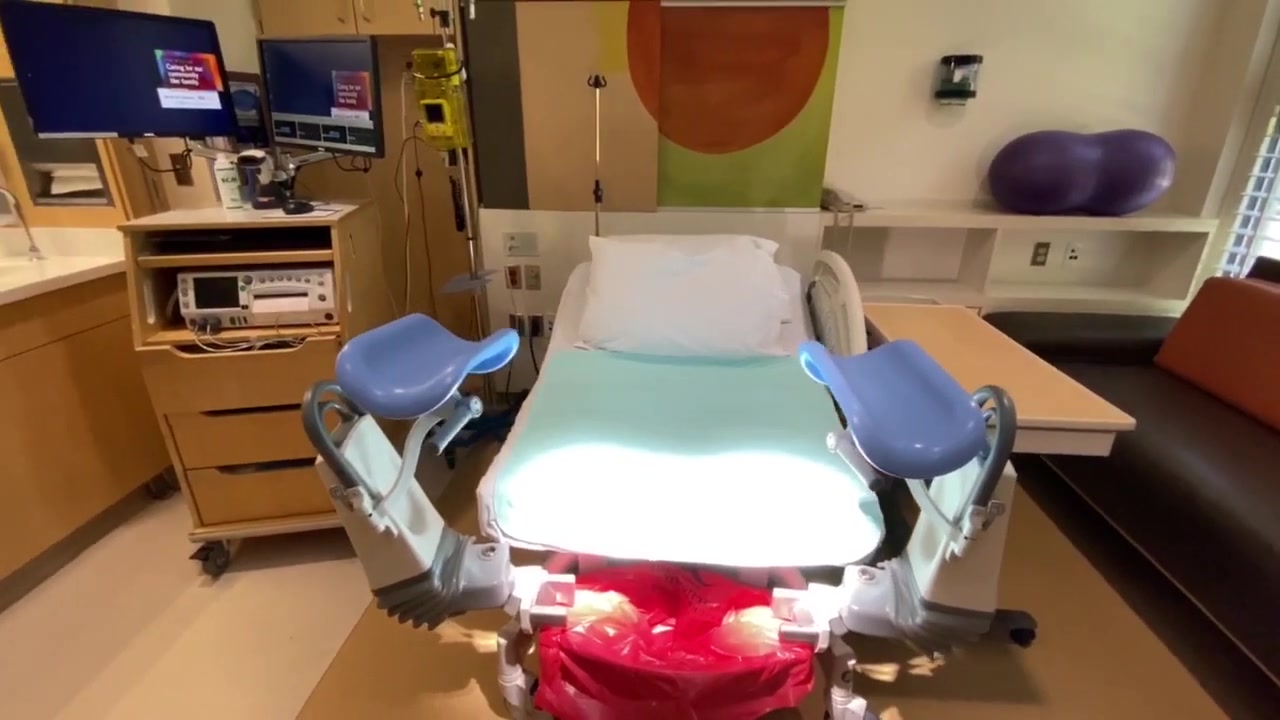bedrail: (807, 249, 870, 358)
computer: (1, 1, 242, 140), (255, 35, 386, 161)
countertop: (1, 256, 126, 297)
dispenser: (1, 78, 118, 207)
drawer: (114, 203, 413, 576)
faucet: (1, 187, 42, 259)
hospital_bed: (494, 223, 880, 720)
iv_pole: (413, 1, 499, 342), (586, 74, 607, 237)
mouse: (281, 198, 315, 216)
overbed_table: (862, 299, 1124, 466)
sofa: (1011, 255, 1280, 685)
telephone: (820, 180, 872, 217)
waste_bin: (527, 555, 807, 720)
